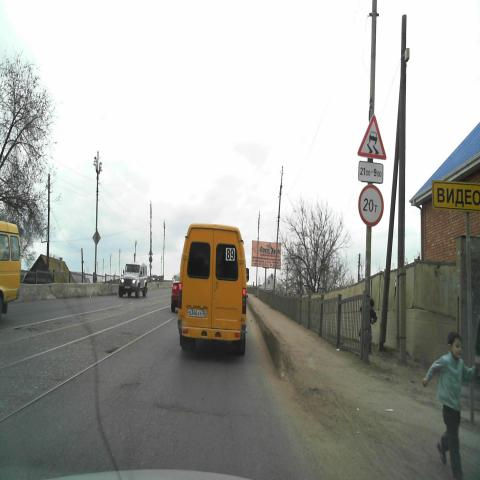1_15: (356, 114, 387, 160)
3_11: (357, 182, 385, 226)
8_5_4: (358, 161, 384, 184)
